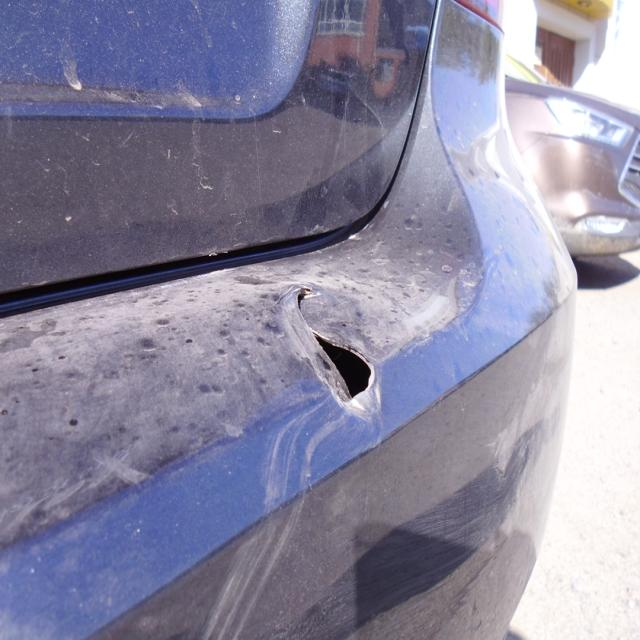Dechirure: (292, 280, 376, 419)
Rayure: (389, 481, 533, 593)
